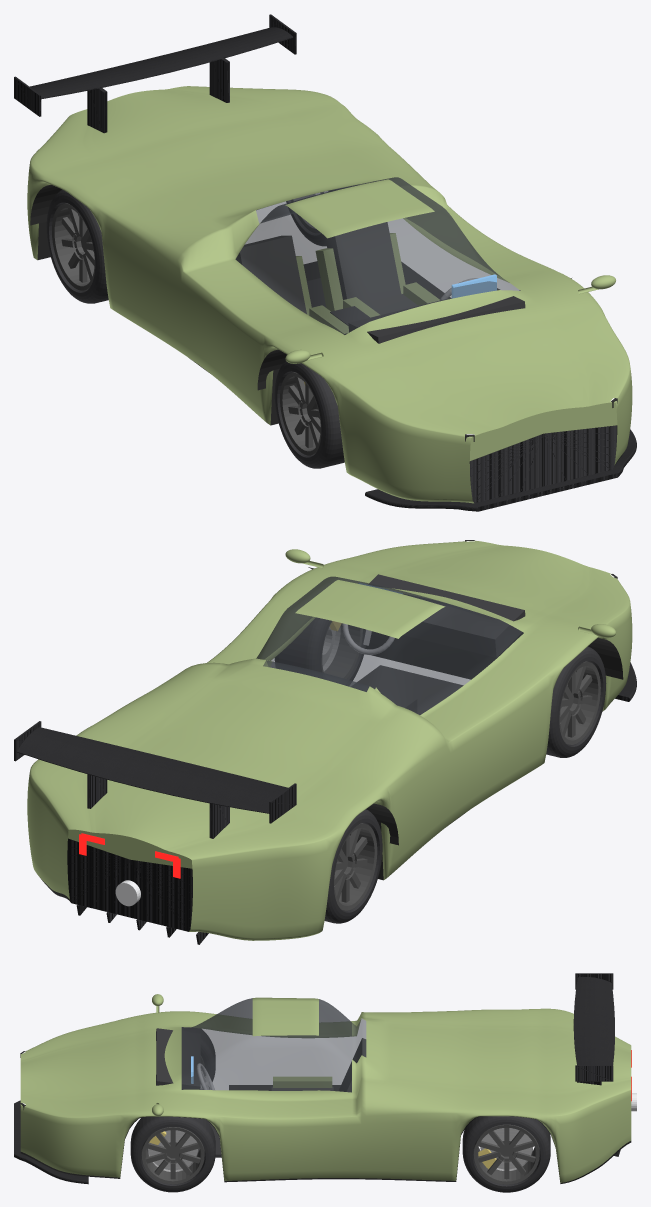
File: lamborghini-aventador-svj.glb
3 renders of one model, top to bottom at view 1: azimuth 30°, elevation 25°; view 2: azimuth 150°, elevation 25°; view 3: azimuth 270°, elevation 25°, orthographic. The views are drawn at different scales.
Parts seen in each view (by area): view 1: Body_PrimaryPaint, Glass_Windows, Carbon_Exterior, Interior_Seats, Interior_SeatBolsters, Tire_FR, Rim_RR, Rim_FR, Tire_RR, WheelWells, Interior_Dashboard, Interior_Screen; view 2: Body_PrimaryPaint, Carbon_Exterior, Glass_Windows, Interior_Dashboard, Underbody, Rim_RR, Rim_FR, Interior_Tub, Tire_FR, Tire_FL, Tire_RR, WheelWells (+2 smaller); view 3: Body_PrimaryPaint, Glass_Windows, Carbon_Exterior, Tire_FL, Tire_RL, Rim_RL, Rim_FL, Interior_Dashboard, Underbody, Interior_SeatBolsters, BrakeDisc_RL, Tire_FR (+3 smaller).
Part boxes in pixels (<box>): Body_PrimaryPaint: <box>27,86,632,503</box>; Glass_Windows: <box>235,177,520,334</box>; Carbon_Exterior: <box>14,14,636,511</box>; Interior_Seats: <box>235,222,417,314</box>; Interior_SeatBolsters: <box>296,233,439,334</box>; Tire_FR: <box>274,361,344,468</box>; Rim_RR: <box>52,203,95,290</box>; Rim_FR: <box>280,372,321,455</box>; Tire_RR: <box>46,189,108,303</box>; WheelWells: <box>30,184,571,390</box>; Interior_Dashboard: <box>348,288,525,343</box>; Interior_Screen: <box>451,274,496,298</box>; Body_PrimaryPaint: <box>27,540,632,940</box>; Carbon_Exterior: <box>14,662,636,944</box>; Glass_Windows: <box>256,576,523,714</box>; Interior_Dashboard: <box>368,574,525,657</box>; Underbody: <box>40,631,602,902</box>; Rim_RR: <box>334,823,377,910</box>; Rim_FR: <box>559,661,600,744</box>; Interior_Tub: <box>357,665,463,714</box>; Tire_FR: <box>546,646,606,757</box>; Tire_FL: <box>274,617,365,680</box>; Tire_RR: <box>324,809,382,923</box>; WheelWells: <box>308,567,623,845</box>; Body_PrimaryPaint: <box>20,994,631,1182</box>; Glass_Windows: <box>181,998,366,1092</box>; Carbon_Exterior: <box>14,973,620,1184</box>; Tire_FL: <box>130,1116,215,1192</box>; Tire_RL: <box>462,1116,550,1192</box>; Rim_RL: <box>473,1124,539,1184</box>; Rim_FL: <box>141,1127,204,1184</box>; Interior_Dashboard: <box>156,1028,200,1089</box>; Underbody: <box>20,1116,631,1183</box>; Interior_SeatBolsters: <box>273,1076,332,1087</box>; BrakeDisc_RL: <box>480,1128,532,1170</box>; Tire_FR: <box>181,1027,215,1081</box>.
Bounding box in the file's own units: 2.27 × 1.13 × 5.04.
Materials: 16 (2 with a texture image).
